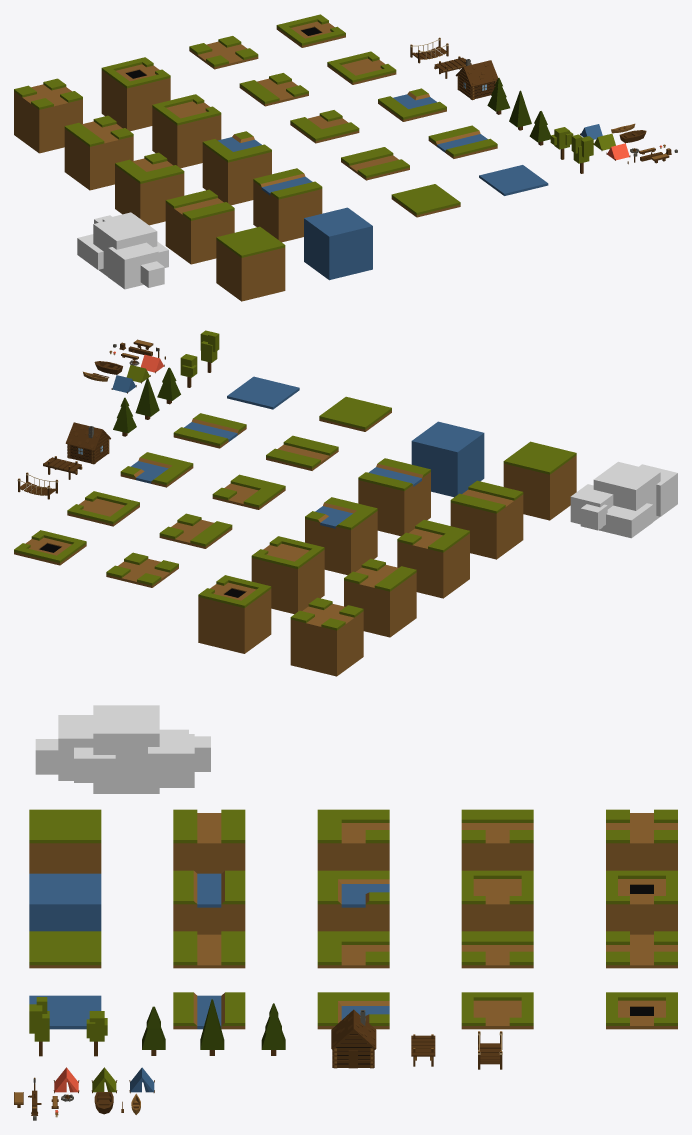
File: ForestShowcase.fbx
The picture shows the model from 3 angles, top to bottom: view 1: azimuth 30°, elevation 25°; view 2: azimuth 150°, elevation 25°; view 3: azimuth 270°, elevation 25°; orthographic projection. The views are drawn at different scales.
Visible parts, largest first — view 1: Cloud, ForestEmptyCube, ForestLakeCube, ForestStraightCube, ForestCrossingCube_02, ForestEndCube, ForestRiverStraightCube, ForestStartCube, ForestCrossingCube_01, ForestRiverCurveCube, ForestCurveCube, ForestEmpty (+16 smaller); view 2: Cloud, ForestEndCube, ForestCrossingCube_01, ForestStraightCube, ForestCurveCube, ForestEmptyCube, ForestCrossingCube_02, ForestStartCube, ForestRiverStraightCube, ForestRiverCurveCube, ForestLakeCube, ForestEmpty (+12 smaller); view 3: Cloud, ForestEmptyCube, ForestEndCube, ForestCrossingCube_02, ForestCurveCube, ForestRiverCurveCube, ForestStartCube, ForestStraightCube, ForestRiverStraightCube, ForestCrossingCube_01, ForestLakeCube, ForestCrossing_02 (+17 smaller).
Part boxes in pixels (x1,y1,x2,y2): Cloud: (77,212,168,289); ForestEmptyCube: (216,226,285,301); ForestLakeCube: (304,207,372,280); ForestStraightCube: (165,189,234,264); ForestCrossingCube_02: (64,115,133,190); ForestEndCube: (101,57,170,131); ForestRiverStraightCube: (253,168,322,242); ForestStartCube: (152,94,221,168); ForestCrossingCube_01: (14,78,82,153); ForestRiverCurveCube: (202,131,271,205); ForestCurveCube: (115,152,184,225); ForestEmpty: (391,184,460,217); Cloud: (570,461,677,538); ForestEndCube: (198,575,271,653); ForestCrossingCube_01: (290,597,363,676); ForestStraightCube: (450,480,523,559); ForestCurveCube: (397,519,469,598); ForestEmptyCube: (503,441,576,520); ForestCrossingCube_02: (344,558,416,637); ForestStartCube: (251,536,324,614); ForestRiverStraightCube: (358,458,430,536); ForestRiverCurveCube: (305,497,377,575); ForestLakeCube: (411,421,484,497); ForestEmpty: (319,396,391,431); Cloud: (35,705,210,793); ForestEmptyCube: (29,809,101,873); ForestEndCube: (606,870,677,934); ForestCrossingCube_02: (461,809,533,870); ForestCurveCube: (317,809,389,870); ForestRiverCurveCube: (317,870,389,931); ForestStartCube: (461,870,533,931); ForestStraightCube: (173,809,245,873); ForestRiverStraightCube: (173,870,245,934); ForestCrossingCube_01: (606,809,677,870); ForestLakeCube: (29,873,101,931); ForestCrossing_02: (461,931,533,968).
Size of the model in its own units: 12.46 by 1.74 by 9.21.
